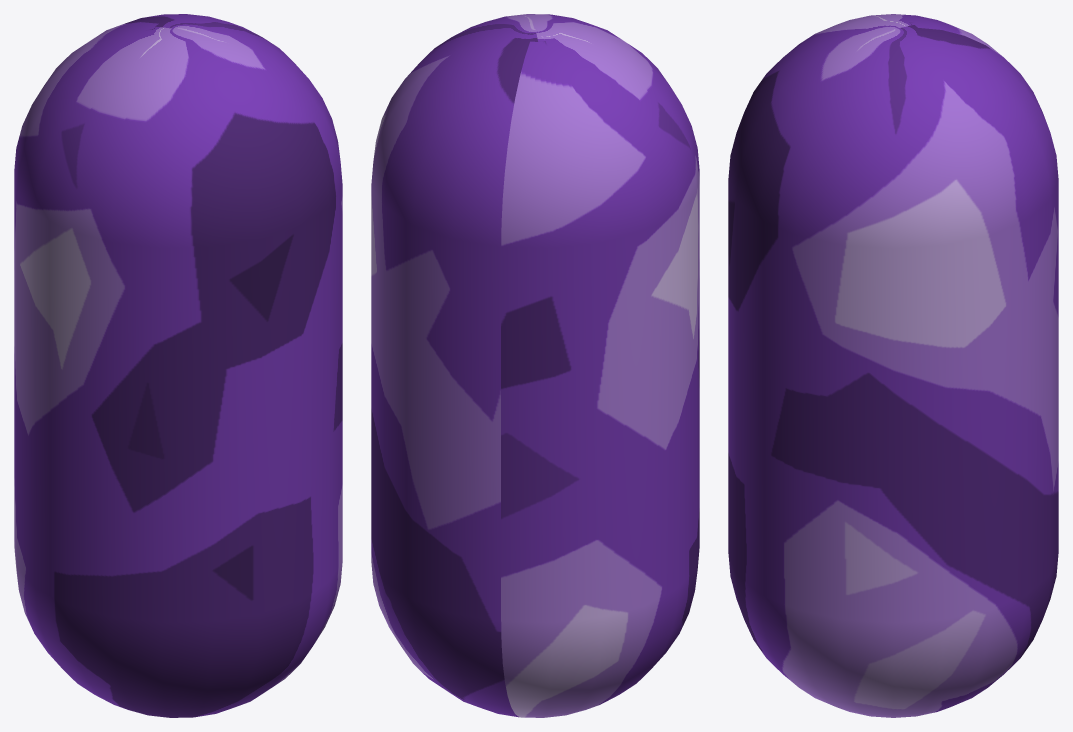
Rendered from CapsuleModel.obj.
3 renders of one model, left to right at view 1: azimuth 30°, elevation 25°; view 2: azimuth 150°, elevation 25°; view 3: azimuth 270°, elevation 25°, orthographic.
Parts seen in each view (by area): view 1: Capsule; view 2: Capsule; view 3: Capsule.
Boxes of the visible parts, x1,y1,x2,y2 form: Capsule: (14, 14, 342, 717); Capsule: (371, 14, 699, 717); Capsule: (728, 14, 1058, 717).
Bounding box in the file's own units: 2 × 4.5 × 2.
Materials: 1 (1 with a texture image).
